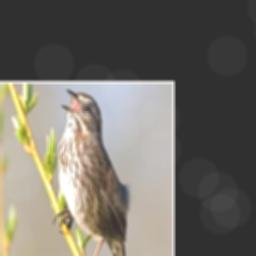Sparrow: (52, 88, 131, 256)
